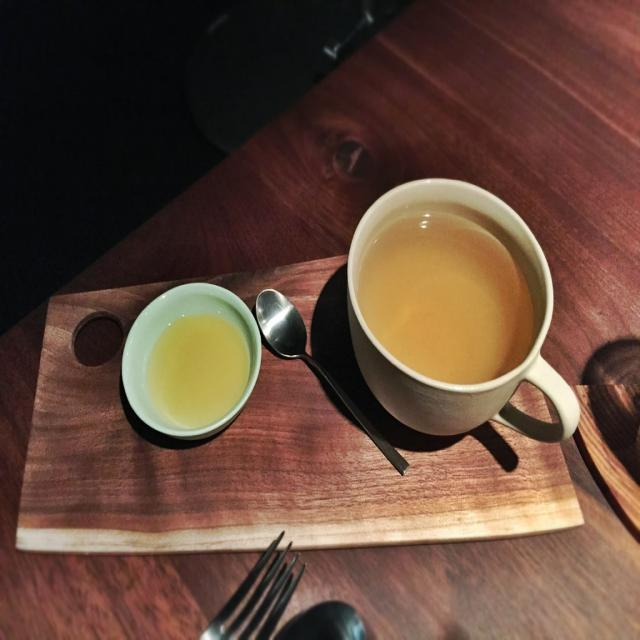Tea: (358, 216, 530, 387)
